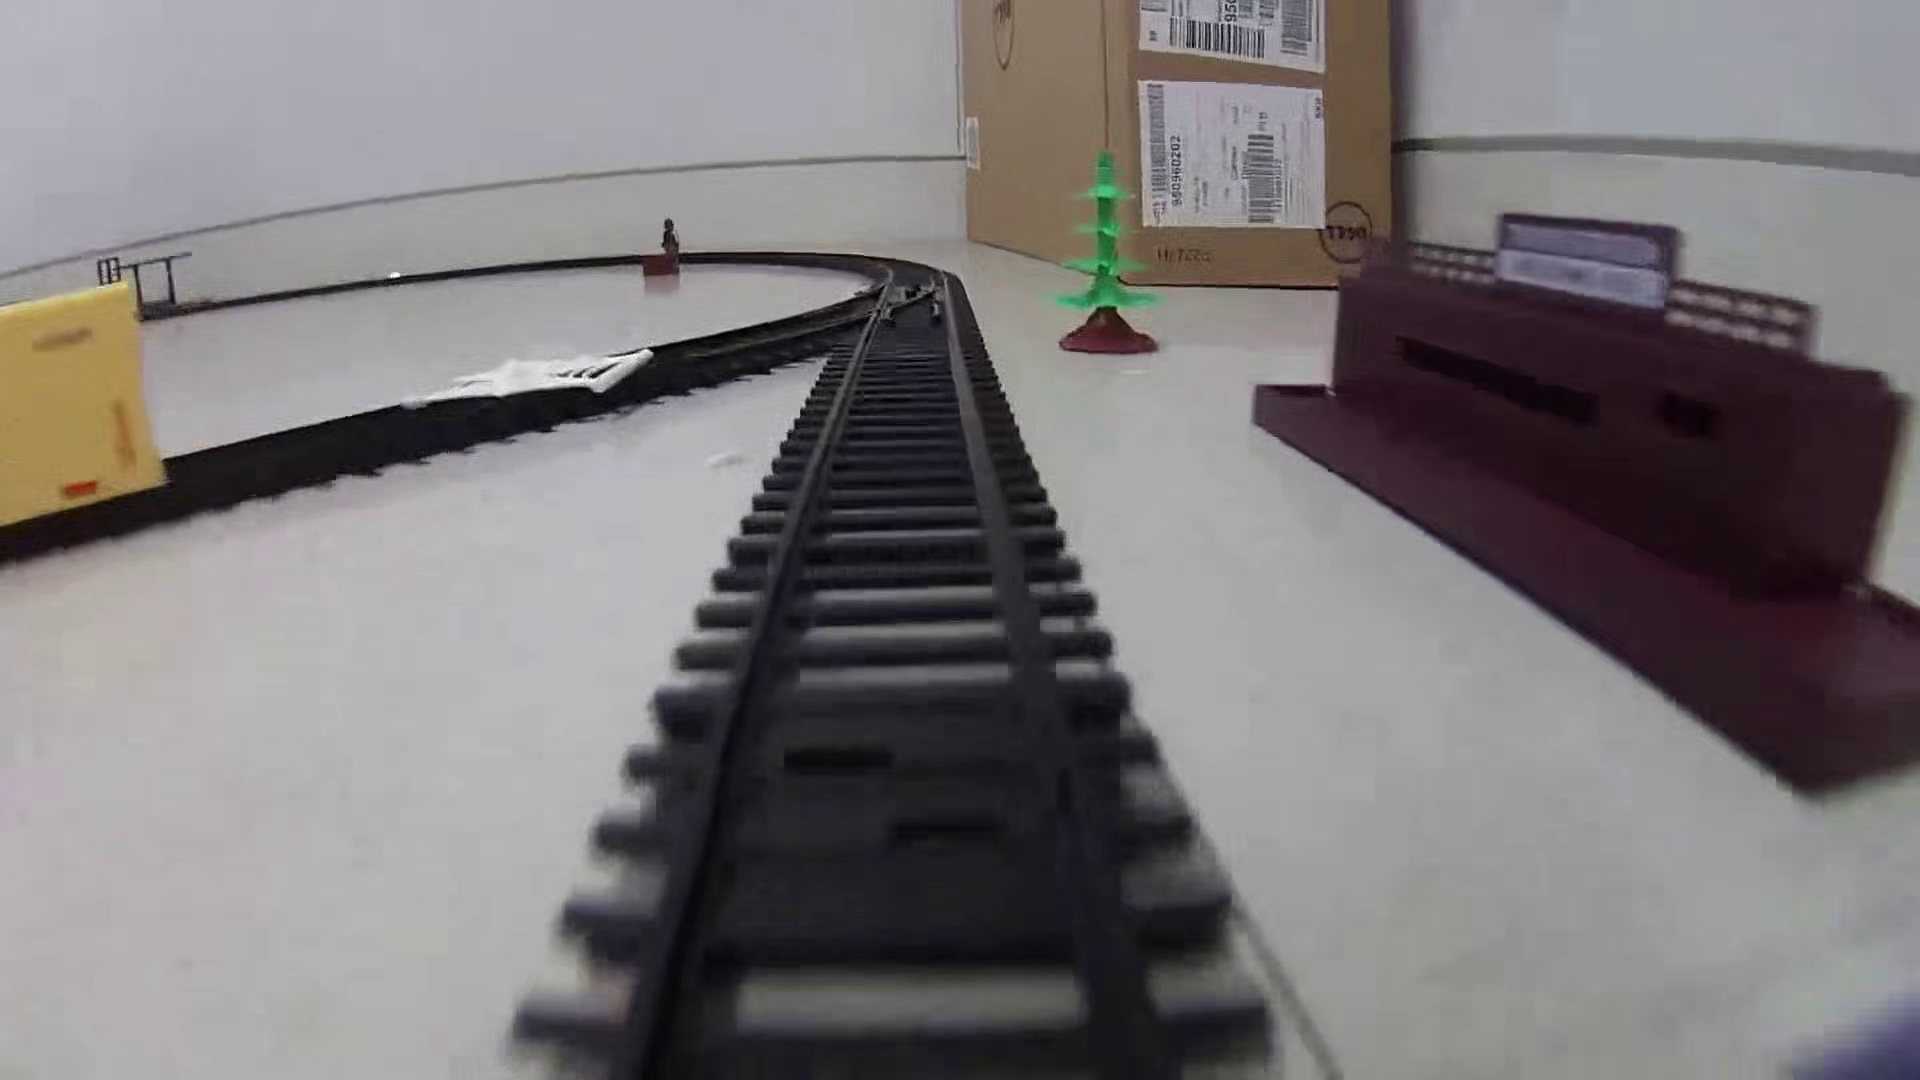people: (657, 218, 681, 263)
tree: (1053, 151, 1162, 359)
web: (392, 341, 659, 410)
